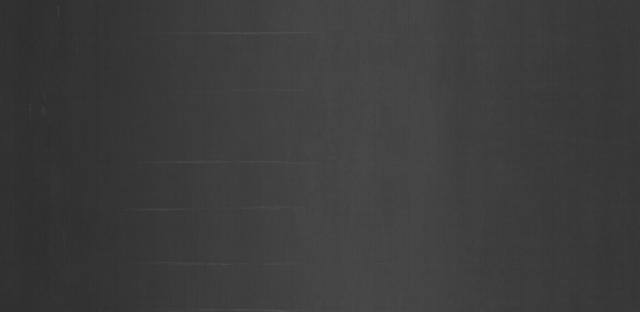waist_folding: (79, 0, 295, 299)
